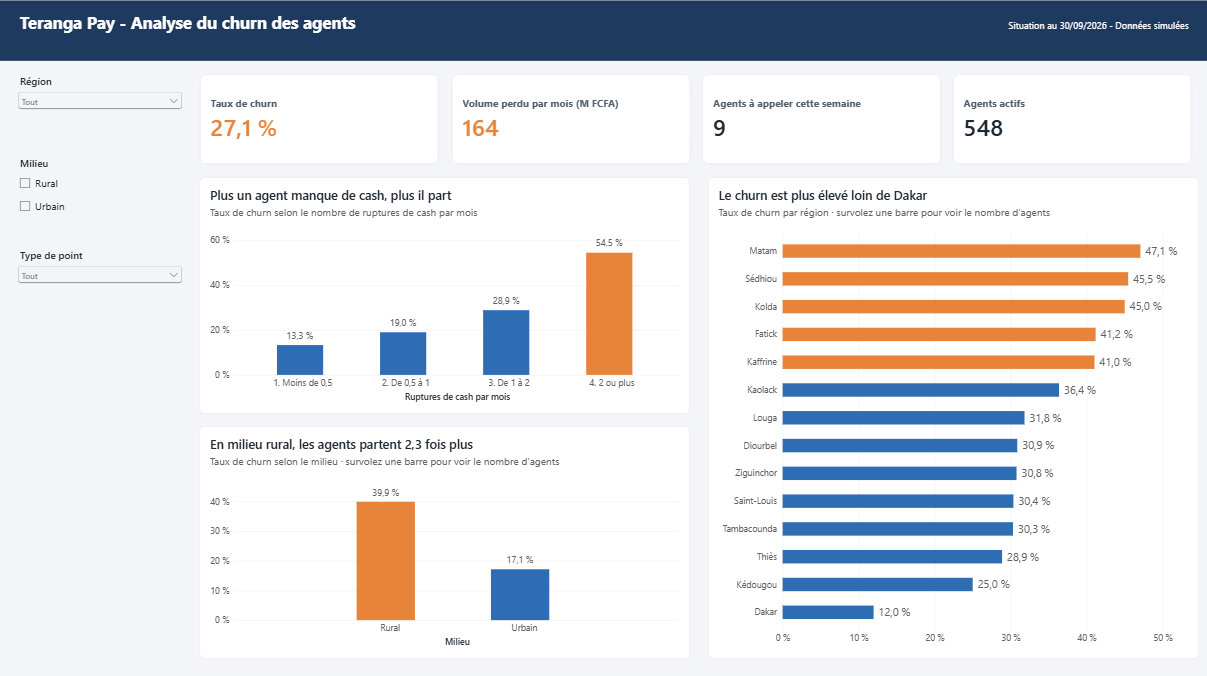

Layout of this report page (visuals, bound fields, positions):
{"tool":"powerbi","page":{"name":"Vue d'ensemble","canvas":[1920,1080],"ordinal":0},"visuals":[{"type":"cardVisual","fields":{"Data":["v_statut_agents.Taux churn"]},"box":[318,120,381,144],"z":0},{"type":"shape","box":[0,2.4,1920,96],"z":1000},{"type":"textbox","box":[30,18,900,60],"z":4000},{"type":"textbox","box":[1390,30,500,40],"z":5000},{"type":"cardVisual","fields":{"Data":["v_statut_agents.Volume perdu M FCFA"]},"box":[717,120,381,144],"z":6000},{"type":"cardVisual","fields":{"Data":["v_statut_agents.Agents a appeler"]},"box":[1116,120,381,144],"z":7000},{"type":"cardVisual","fields":{"Data":["v_statut_agents.Agents actifs"]},"box":[1515,120,381,144],"z":8000},{"type":"clusteredColumnChart","title":"Plus un agent manque de cash, plus il part","fields":{"Category":["v_statut_agents.classe_ruptures"],"Y":["v_statut_agents.Taux churn"]},"box":[318,285,780,375],"z":9000},{"type":"clusteredBarChart","title":"Le churn est plus élevé loin de Dakar","fields":{"Category":["v_statut_agents.region"],"Y":["v_statut_agents.Taux churn"]},"box":[1127,283.8,780,765],"z":10000},{"type":"clusteredColumnChart","title":"En milieu rural, les agents partent 2,3 fois plus","fields":{"Category":["v_statut_agents.milieu"],"Y":["v_statut_agents.Taux churn"]},"box":[318,681,780,369],"z":10001},{"type":"slicer","fields":{"Values":["v_statut_agents.region"]},"box":[24,120,270,130],"z":10002},{"type":"slicer","fields":{"Values":["v_statut_agents.milieu"]},"box":[24,250,270,130],"z":10003},{"type":"slicer","fields":{"Values":["v_statut_agents.type_point"]},"box":[24,396.1,270,269.6],"z":10004}]}

Visuals, with their boxes in screenshot pixels (x1, y1, x2, y2), scaled from the page's 1920x1080 canvas onto the 1207x676 screenshot:
cardVisual - v_statut_agents.Taux churn: 200:75:439:165
shape: 0:2:1206:62
textbox: 19:11:585:49
textbox: 874:19:1188:44
cardVisual - v_statut_agents.Volume perdu M FCFA: 451:75:690:165
cardVisual - v_statut_agents.Agents a appeler: 702:75:941:165
cardVisual - v_statut_agents.Agents actifs: 952:75:1192:165
"Plus un agent manque de cash, plus il part" clusteredColumnChart: 200:178:690:413
"Le churn est plus élevé loin de Dakar" clusteredBarChart: 708:178:1199:656
"En milieu rural, les agents partent 2,3 fois plus" clusteredColumnChart: 200:426:690:657
slicer - v_statut_agents.region: 15:75:185:156
slicer - v_statut_agents.milieu: 15:156:185:238
slicer - v_statut_agents.type_point: 15:248:185:417
